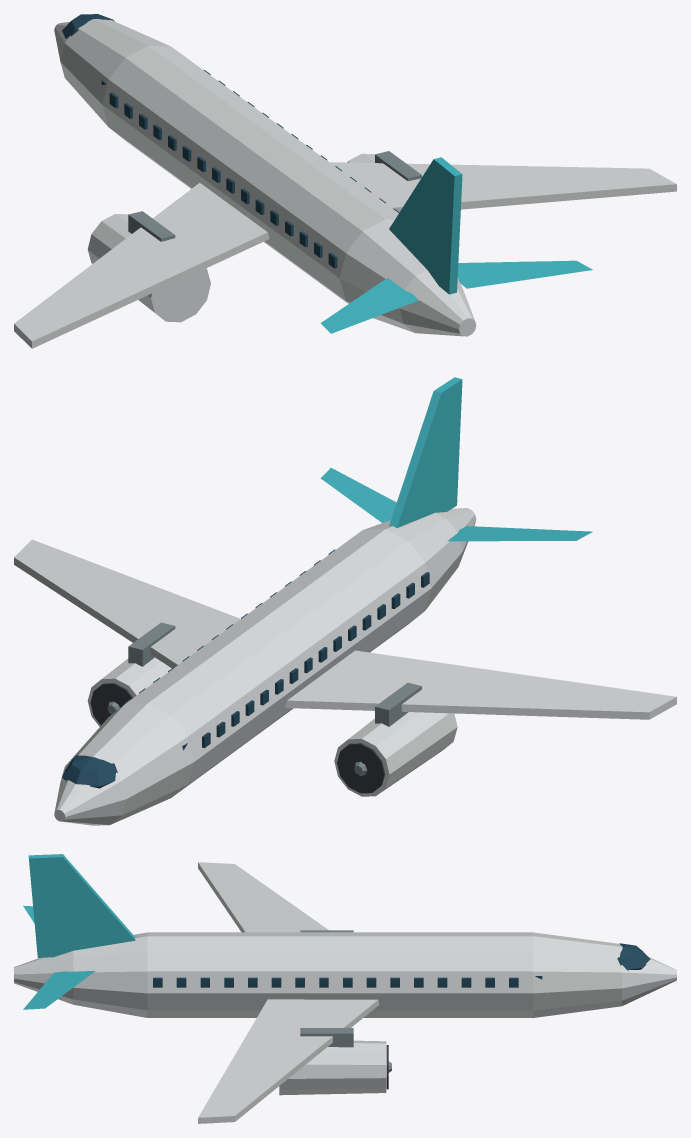
3 views of the same model, one above another, from view 1: azimuth 30°, elevation 25°; view 2: azimuth 150°, elevation 25°; view 3: azimuth 270°, elevation 25° (orthographic). The views are drawn at different scales.
Parts seen in each view (by area): view 1: Plane; view 2: Plane; view 3: Plane.
Part boxes in pixels (<box>): Plane: <box>14,14,676,348</box>; Plane: <box>14,377,676,825</box>; Plane: <box>14,854,676,1123</box>.
Size of the model in its own units: 4.11 by 1.41 by 4.5.
